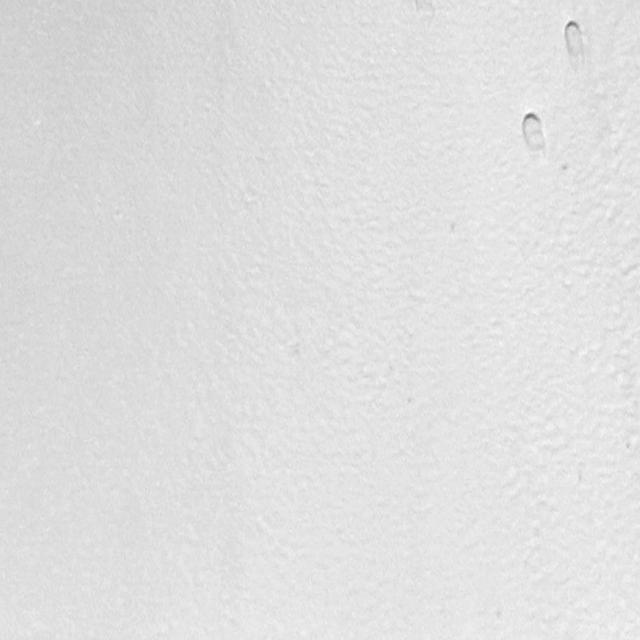pin holes: (518, 109, 554, 162), (559, 19, 590, 67)
